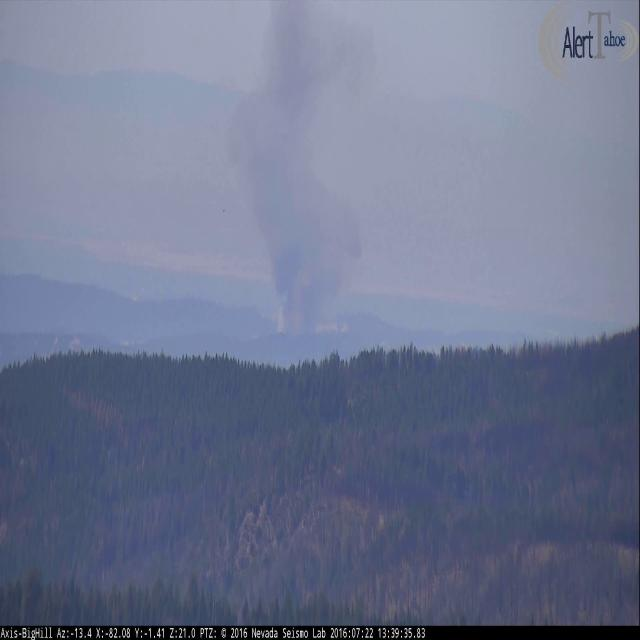smoke: (200, 0, 377, 334)
